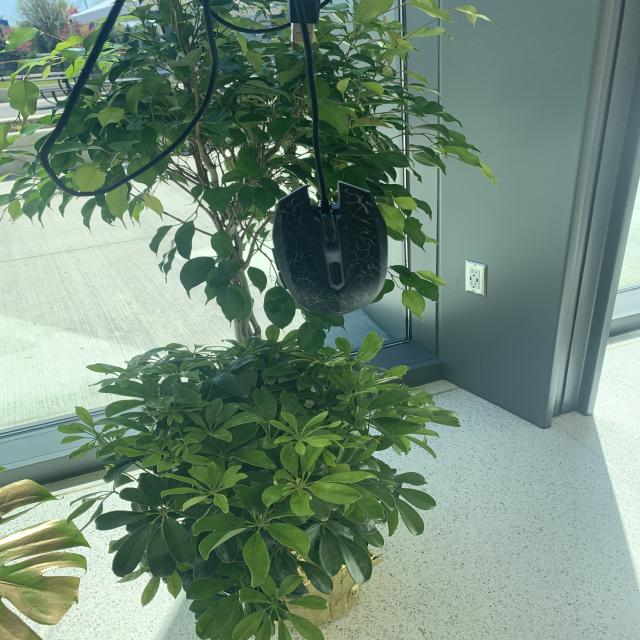Mouse: (266, 177, 402, 324)
